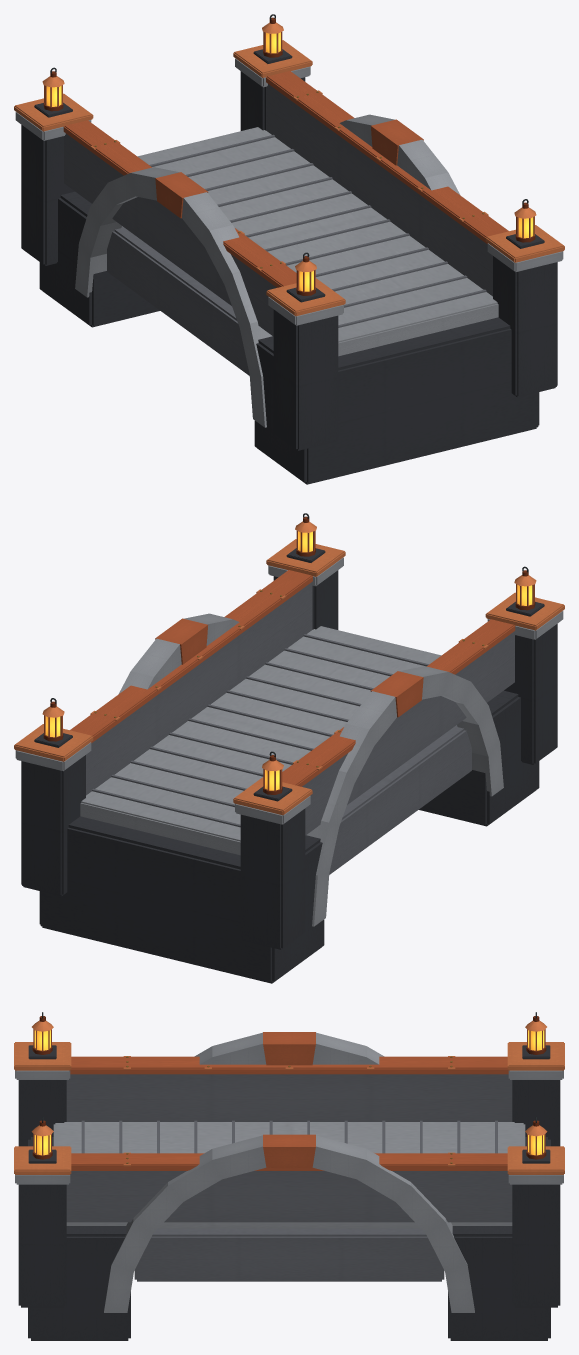
The model's file is bridge_copper_arch.glb.
The picture shows the model from 3 angles, top to bottom: view 1: azimuth 30°, elevation 25°; view 2: azimuth 150°, elevation 25°; view 3: azimuth 270°, elevation 25°; orthographic projection. The views are drawn at different scales.
Parts seen in each view (by area): view 1: bridge_copper_arch; view 2: bridge_copper_arch; view 3: bridge_copper_arch.
Boxes of the visible parts, left/top/right/bottom form: bridge_copper_arch: left=14, top=14, right=564, bottom=484; bridge_copper_arch: left=14, top=513, right=564, bottom=983; bridge_copper_arch: left=14, top=1012, right=564, bottom=1340.
Size of the model in its own units: 4.14 by 3.32 by 7.48.
Materials: 1 (1 with a texture image).
